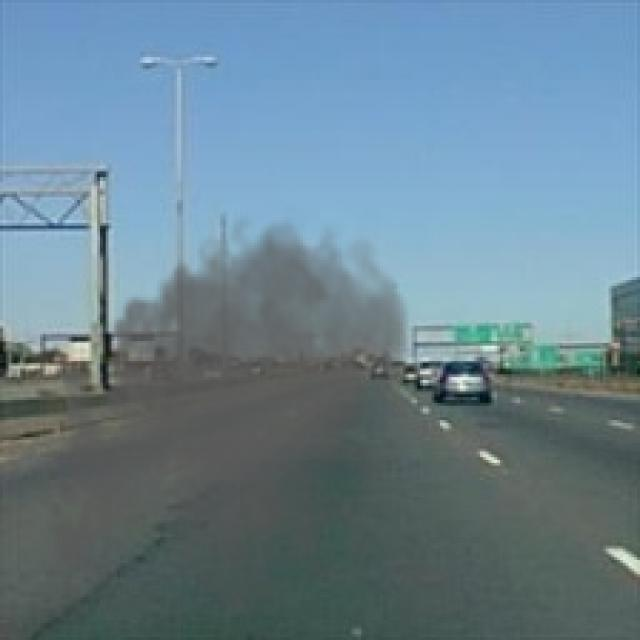Smoke: (34, 202, 417, 614)
